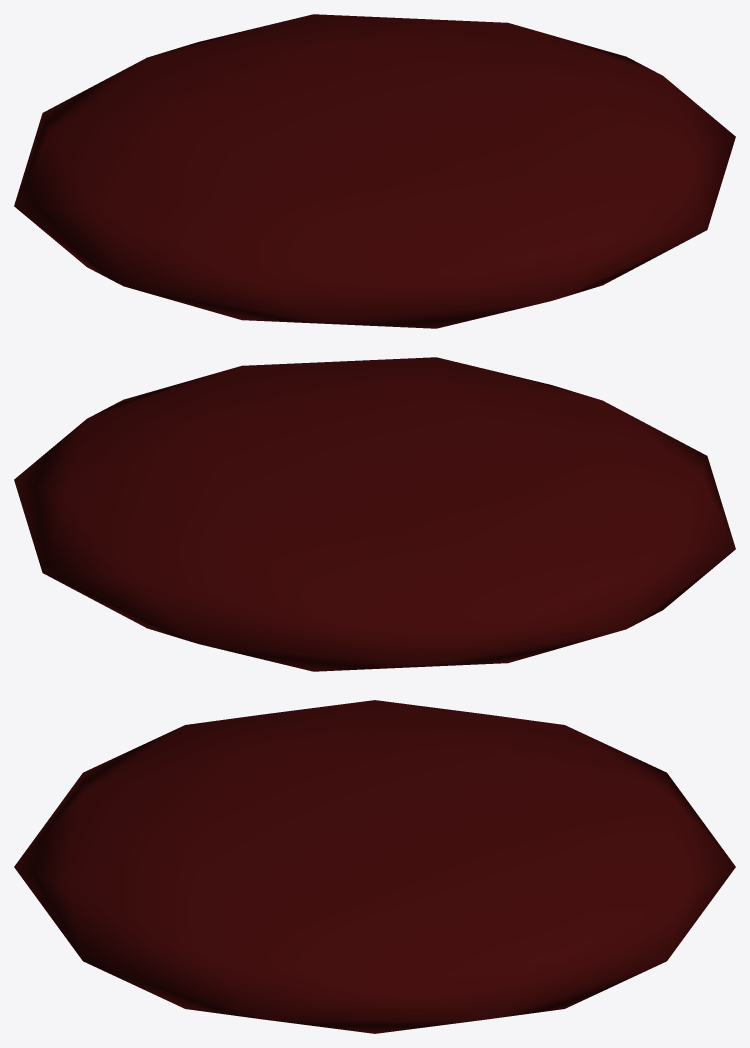
File: characterballMesh.glb
3 renders of one model, top to bottom at view 1: azimuth 30°, elevation 25°; view 2: azimuth 150°, elevation 25°; view 3: azimuth 270°, elevation 25°, orthographic. The views are drawn at different scales.
Visible parts, largest first — view 1: characterball; view 2: characterball; view 3: characterball.
Part boxes in pixels (left/top/right/bottom): characterball: left=14, top=14, right=735, bottom=328; characterball: left=14, top=357, right=735, bottom=671; characterball: left=14, top=700, right=735, bottom=1033.
Bounding box in the file's own units: 7 × 1.24 × 7.
